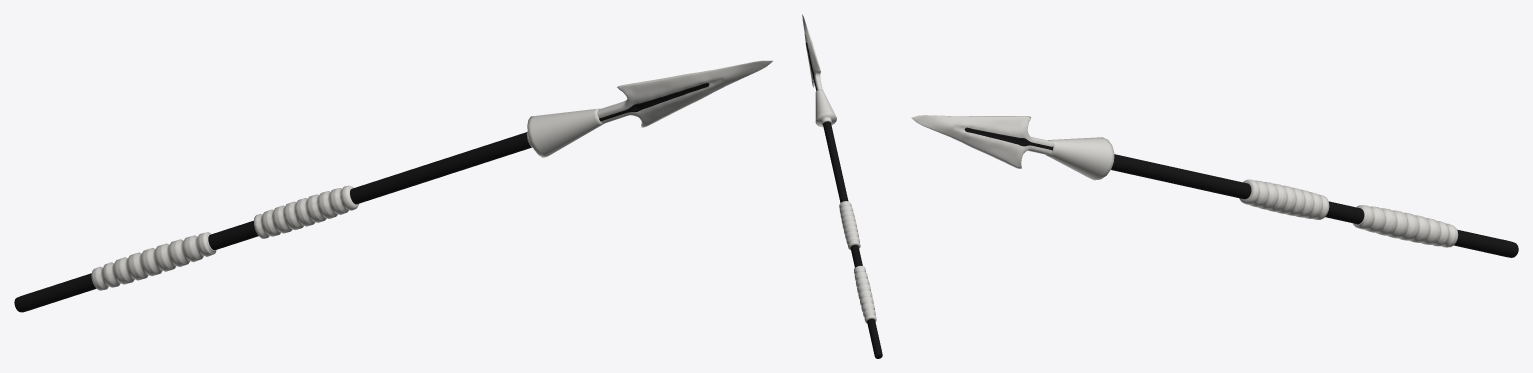
The model's file is COSSACK_WEAPON_19#1.glb.
The picture shows the model from 3 angles, left to right: view 1: azimuth 30°, elevation 25°; view 2: azimuth 150°, elevation 25°; view 3: azimuth 270°, elevation 25°; orthographic projection. The views are drawn at different scales.
Parts seen in each view (by area): view 1: Kopie3; view 2: Kopie3; view 3: Kopie3.
Boxes of the visible parts, x1,y1,x2,y2 form: Kopie3: [14, 60, 772, 312]; Kopie3: [802, 14, 882, 358]; Kopie3: [911, 115, 1518, 257].
Size of the model in its own units: 6.46 by 4.84 by 7.4.
1 material, 1 textured.
